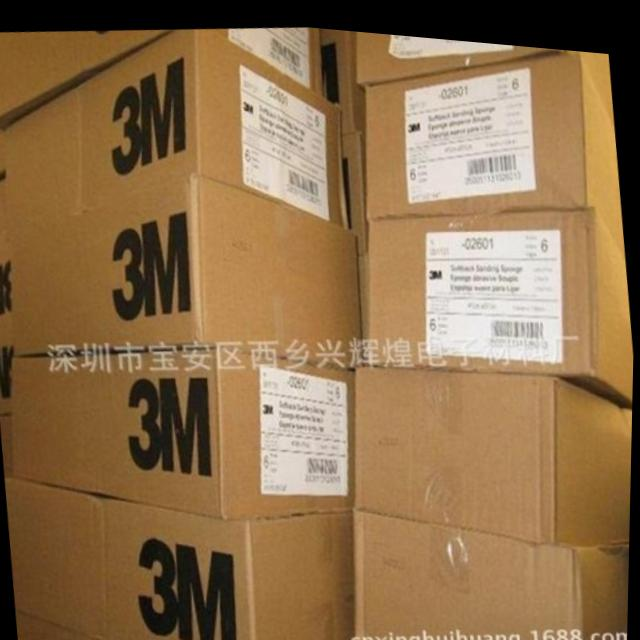box: (3, 25, 343, 234), (10, 170, 365, 364), (13, 343, 356, 514), (6, 474, 357, 640), (368, 194, 634, 397), (366, 40, 624, 242), (357, 358, 634, 532), (356, 502, 631, 640), (0, 26, 175, 130), (355, 25, 565, 83), (212, 21, 326, 93), (321, 22, 366, 127), (340, 124, 369, 247), (0, 244, 16, 415)
